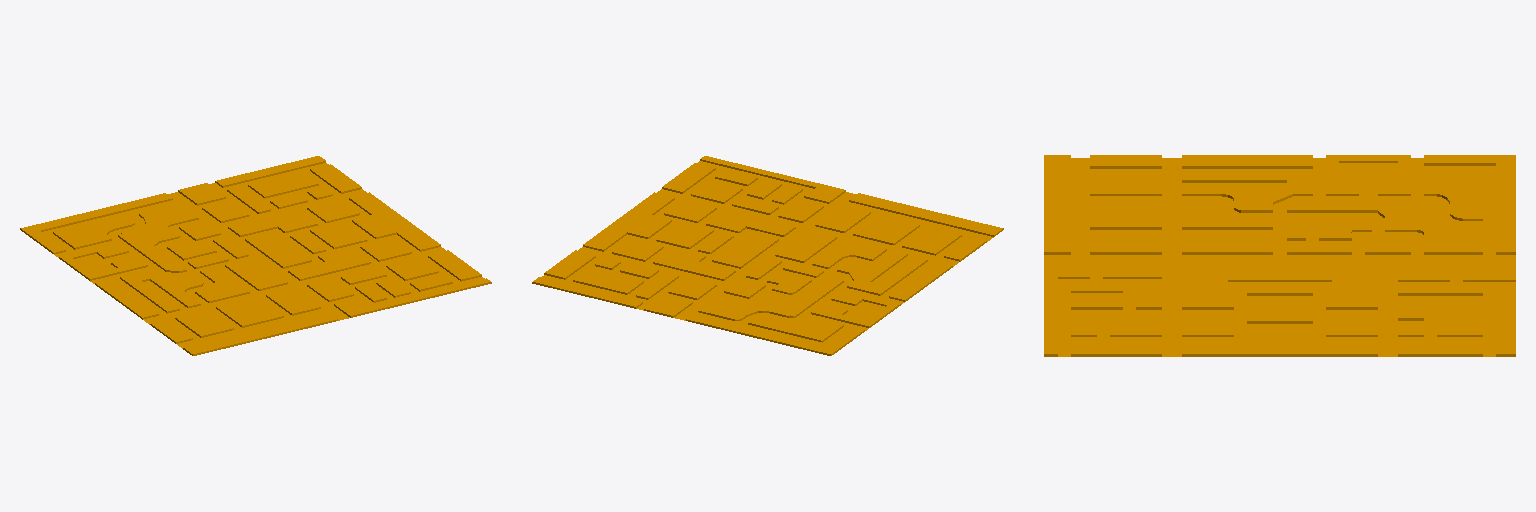
The robot description file, URDF, robot "global_nav":
<?xml version="1.0" ?>
<robot name="global_nav">

  <link name="city">
    <origin rpy="0 0 0" xyz="0 0 0"/>
    <visual>
      <origin rpy="1.5708 0 0" xyz="0 0 0"/>
      <geometry>
        <mesh filename="package://city_assets/models/large_basic_city/meshes/city.obj" scale="1 1 1"/>
      </geometry>
      <material>
        <ambient>0.8 0.8 0.8 1.0</ambient>
        <diffuse>0.8 0.8 0.8 1.0</diffuse>
        <specular>0.1 0.1 0.1 1.0</specular>
      </material>
    </visual>
    <inertial>
      <mass value="1000.0"/>
      <inertia ixx="1.0" ixy="0.0" ixz="0.0" iyy="1.0" iyz="0.0" izz="1.0"/>
    </inertial>
  </link>

</robot>

--- What the picture shows (computed from the rendered views, not written in the file) ---
The picture shows the robot from 3 angles, left to right: view 1: azimuth 30°, elevation 25°; view 2: azimuth 150°, elevation 25°; view 3: azimuth 270°, elevation 25°; orthographic projection.
Robot: global_nav — 1 links, 0 joints (none); root link city; default pose: every joint at zero.
Visible links, largest first — view 1: city; view 2: city; view 3: city.
Boxes of the visible links, x1,y1,x2,y2 form: city: (20,156,491,355); city: (532,156,1003,355); city: (1044,155,1515,356).
Bounding box of the posed robot: 500 × 500 × 3 m (x, y, z).
1 mesh visuals loaded from 1 distinct referenced files (1 OBJ).
